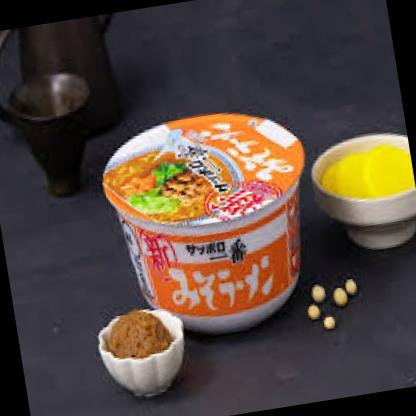Ramen: (98, 99, 333, 349)
